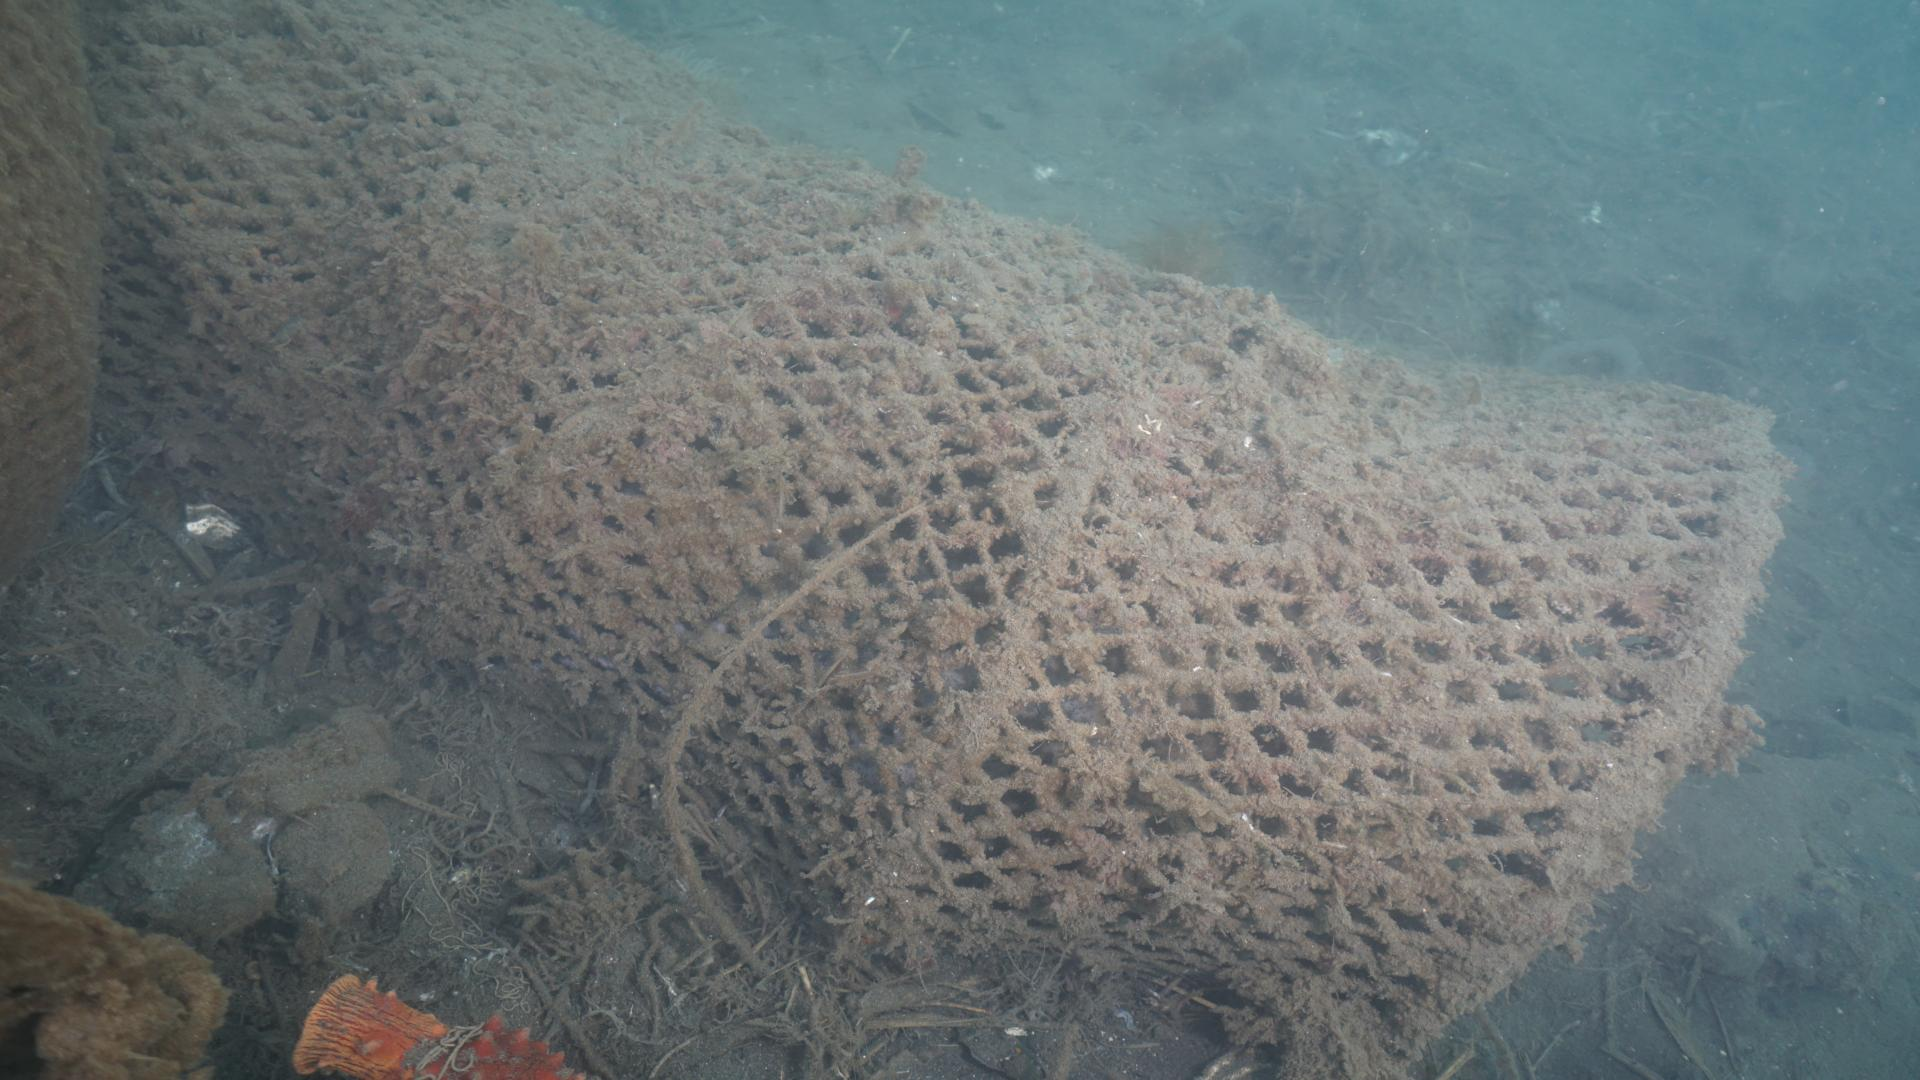spring fish trap: (91, 0, 1801, 1080)
